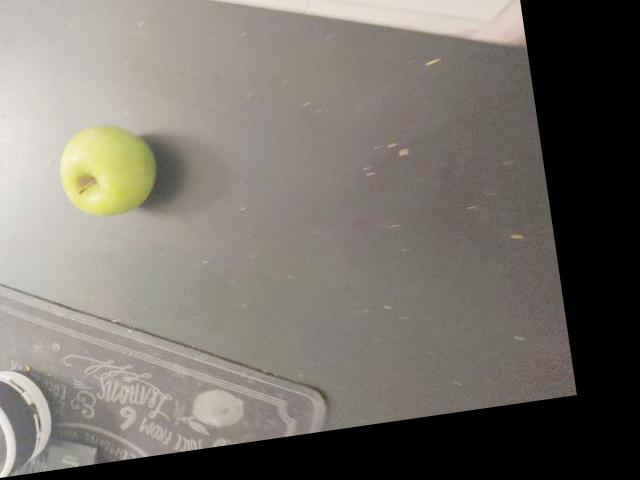apple: (49, 186, 166, 312)
